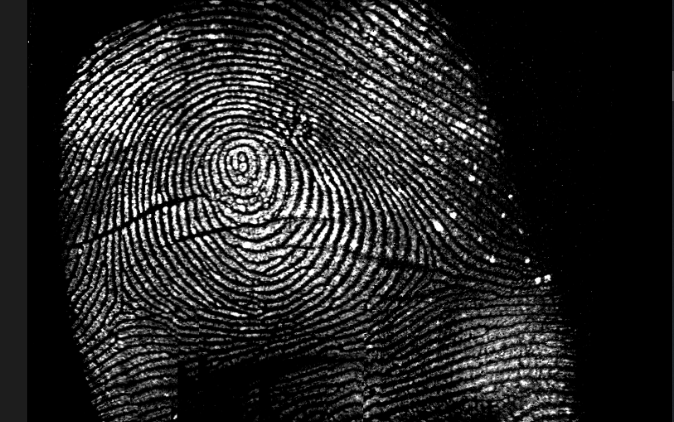nucelo: (229, 149, 247, 174)
verticilo: (107, 288, 133, 314), (426, 252, 448, 278)
